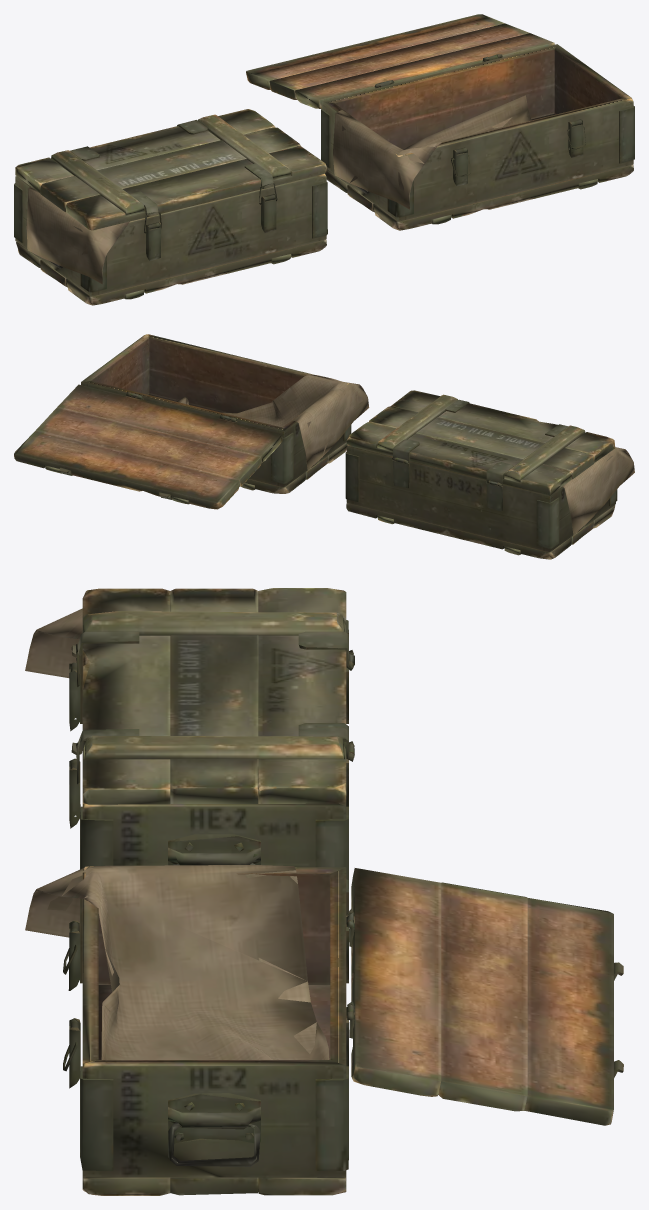
The model's file is ph_old_military_crate.glb.
The picture shows the model from 3 angles, top to bottom: view 1: azimuth 30°, elevation 25°; view 2: azimuth 150°, elevation 25°; view 3: azimuth 270°, elevation 25°; orthographic projection. The views are drawn at different scales.
Visible parts, largest first — view 1: old_military_crate_lid_a; view 2: old_military_crate_lid_a; view 3: old_military_crate_lid_a.
Part boxes in pixels (x1=…): old_military_crate_lid_a: x1=14, y1=14, x2=634, y2=305; old_military_crate_lid_a: x1=14, y1=334, x2=634, y2=559; old_military_crate_lid_a: x1=25, y1=588, x2=623, y2=1195.
Bounding box in the file's own units: 1.81 × 0.3009 × 0.9757.
Materials: 1 (1 with a texture image).
